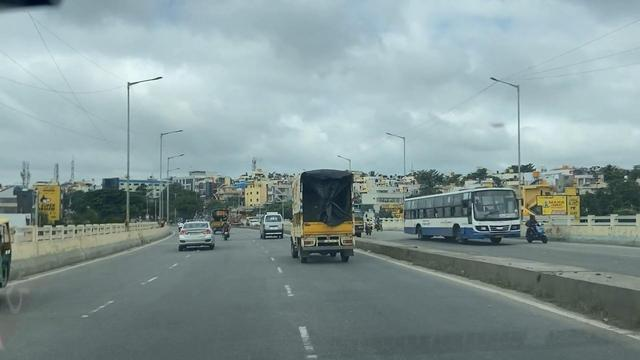HMV: (398, 189, 532, 248), (286, 169, 367, 264)
